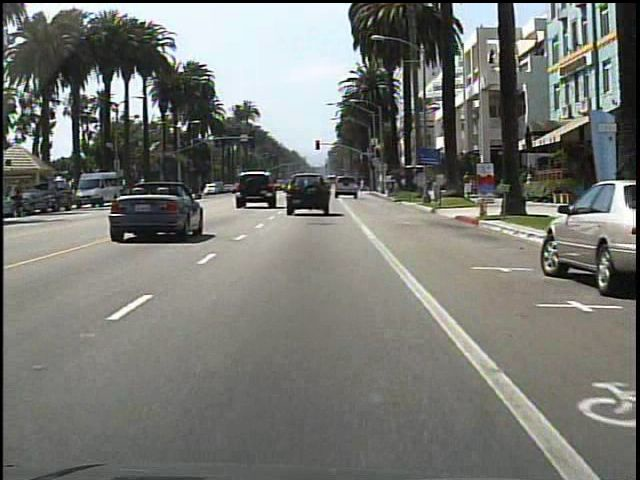person: (13, 177, 30, 221)
